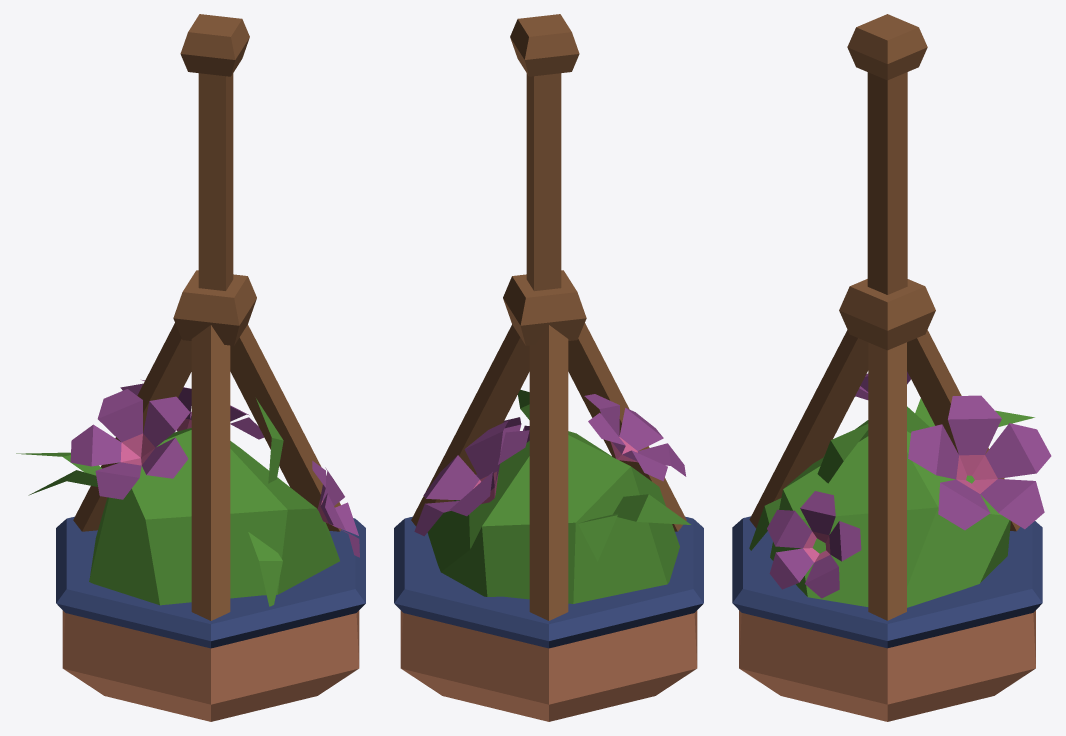
The model's file is empire-flowerpot-hanging-small-empire.glb.
3 views of the same model, side by side, from view 1: azimuth 30°, elevation 25°; view 2: azimuth 150°, elevation 25°; view 3: azimuth 270°, elevation 25° (orthographic).
Parts seen in each view (by area): view 1: SM_Flowerpot_Hanging_Small_Empire; view 2: SM_Flowerpot_Hanging_Small_Empire; view 3: SM_Flowerpot_Hanging_Small_Empire.
Part boxes in pixels (x1,y1,x2,y2): SM_Flowerpot_Hanging_Small_Empire: (16,14,365,721); SM_Flowerpot_Hanging_Small_Empire: (394,14,703,721); SM_Flowerpot_Hanging_Small_Empire: (732,14,1051,721).
Bounding box in the file's own units: 0.4601 × 0.9142 × 0.3987.
